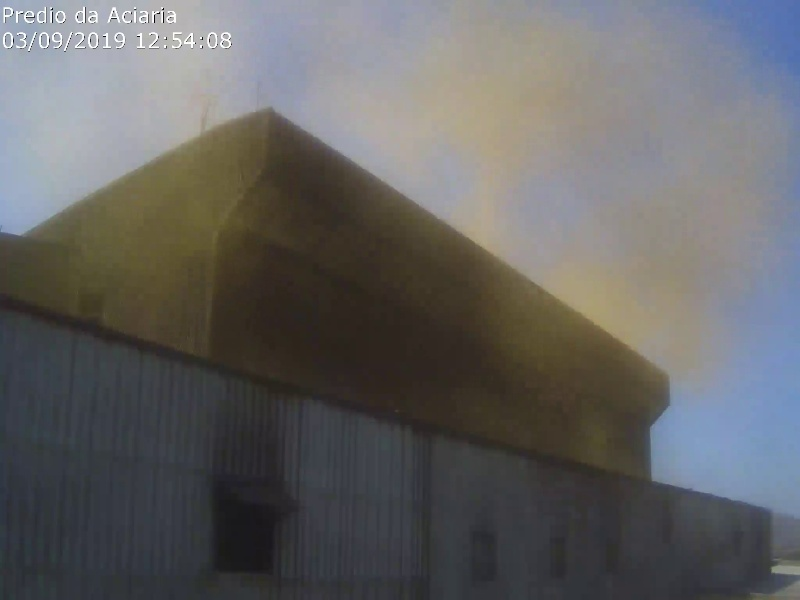pessimo: (265, 2, 783, 407), (3, 4, 255, 309)
